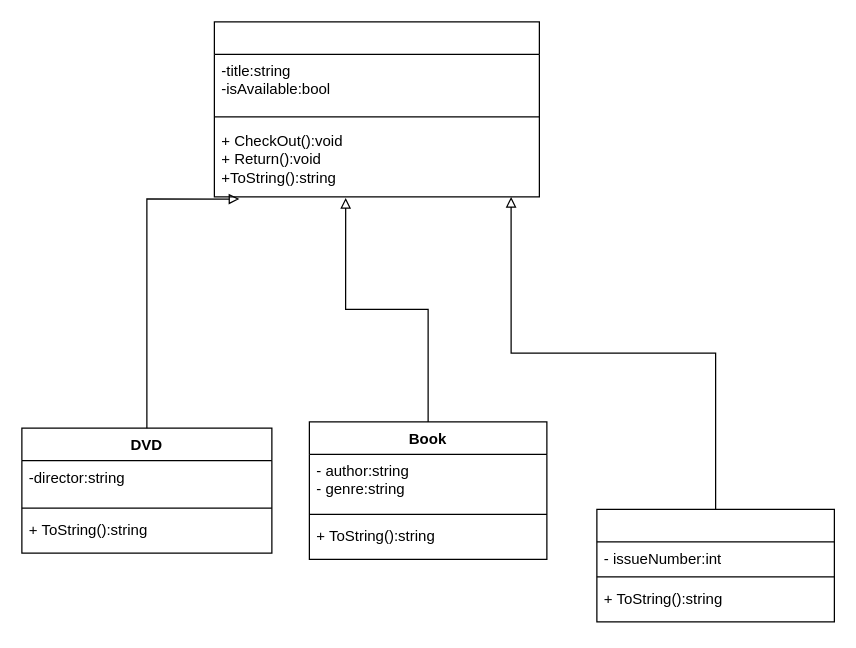
Image size: 856x648. Some labels were removed from this diagram. The box of each missing label's shape, as (x1, y1, x2, y2) in pixels:
LibraryItem: (213, 21, 539, 197)
Magazine: (596, 508, 834, 622)
